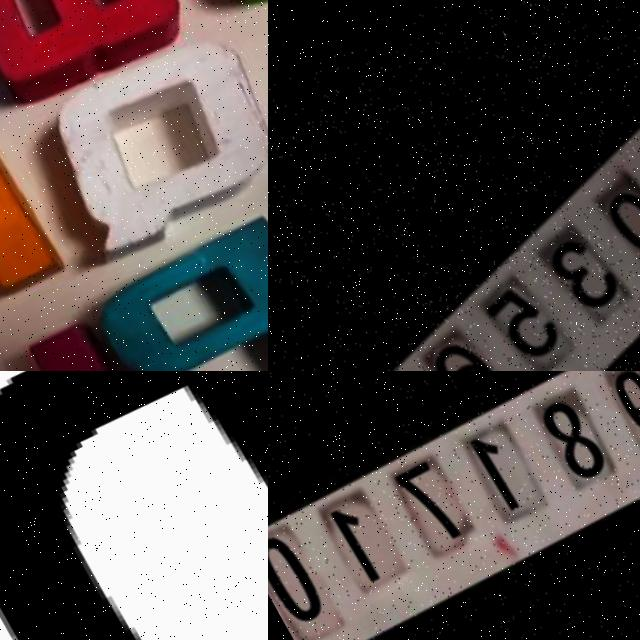0: (268, 502, 351, 640), (582, 145, 640, 274)
1: (302, 467, 422, 603), (443, 394, 562, 529)
3: (522, 194, 640, 334)
5: (464, 247, 585, 371)
6: (408, 300, 528, 371)
7: (373, 428, 493, 564)
8: (514, 371, 635, 498)
9: (588, 371, 640, 455)
D: (0, 371, 268, 640)
P: (78, 180, 268, 371)
Q: (20, 0, 268, 280)
R: (0, 99, 64, 368)
W: (0, 0, 201, 115)
